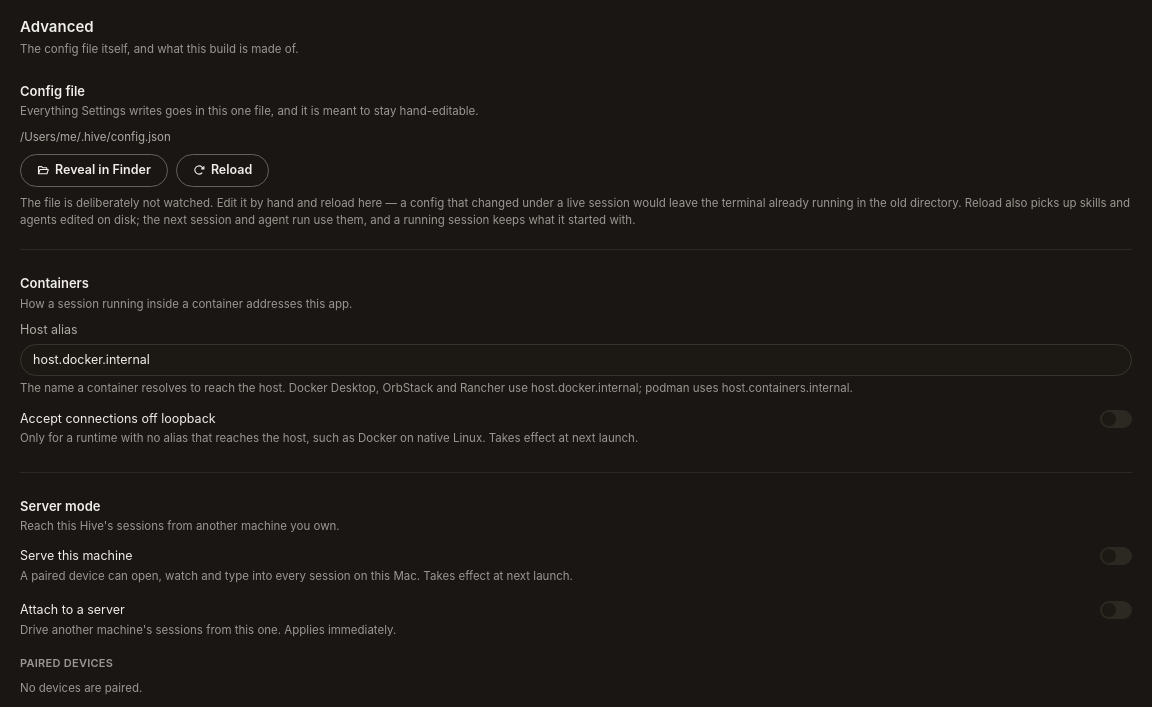
Test: AdvancedSection › pluralises the reload count
This screenshot has width=1152, height=707.
Click the button "Reload" at {"x": 223, "y": 170}, box [176,154,269,187]
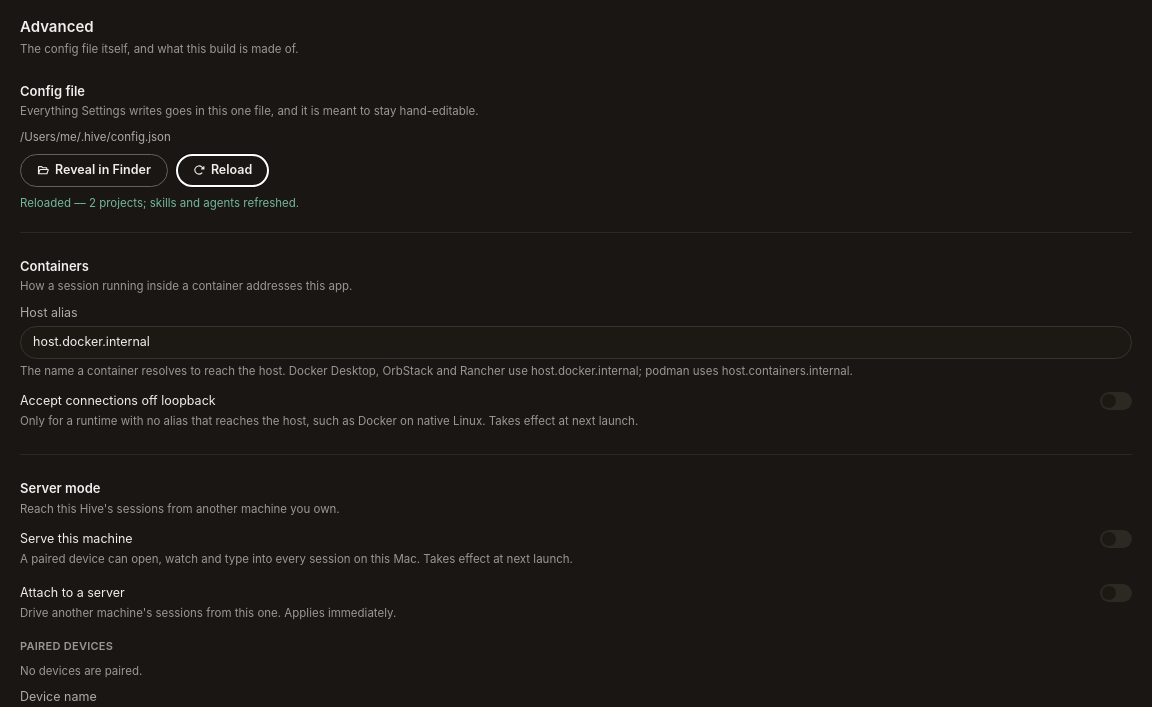
Expected: the text "Reloaded — 2 projects; skills and agents refreshed." is shown, [20,196,299,210]
